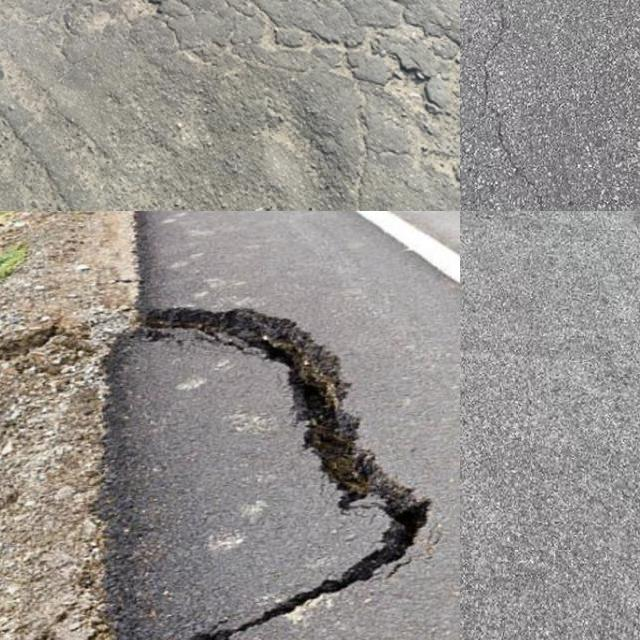Memanjang: (470, 0, 550, 211)
Pinggir: (59, 277, 455, 640)
